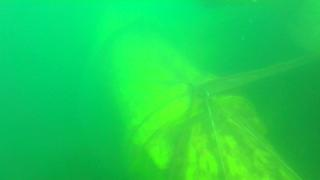pipe: (94, 7, 302, 180)
